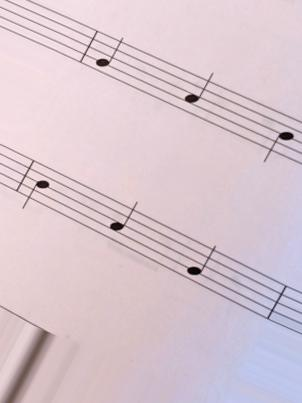note: (106, 193, 142, 264), (184, 228, 218, 302), (182, 61, 216, 131), (259, 99, 294, 167), (19, 147, 51, 219), (95, 20, 125, 89)
